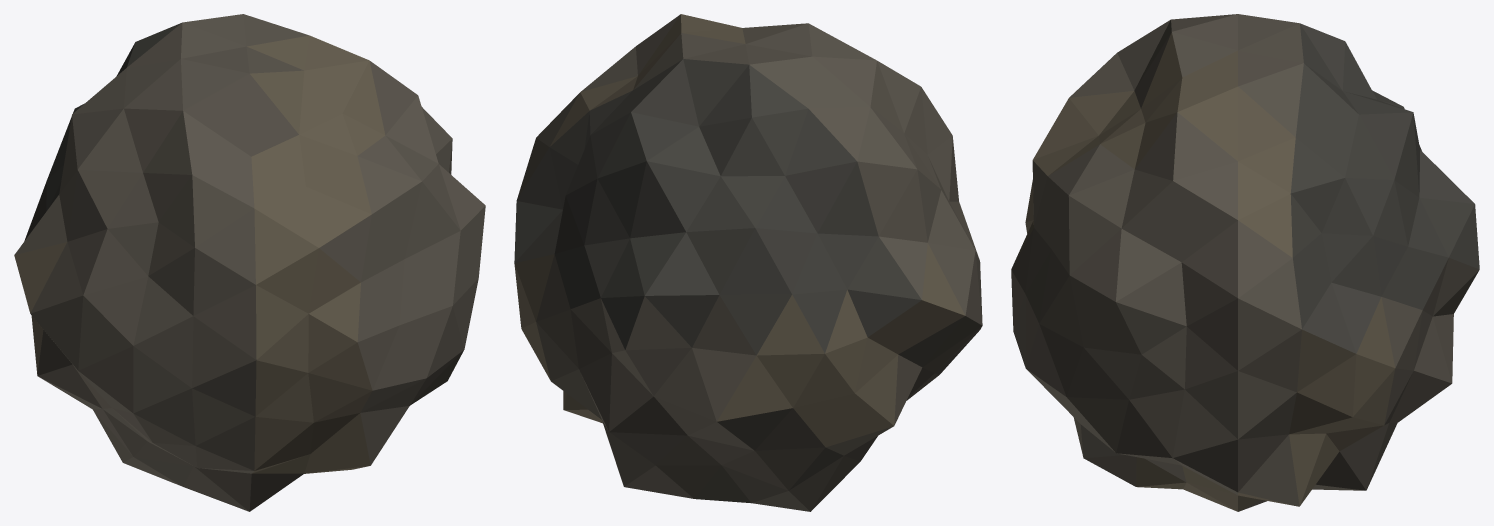
The model's file is obstaculo_asteroide.obj.
The picture shows the model from 3 angles, left to right: view 1: azimuth 30°, elevation 25°; view 2: azimuth 150°, elevation 25°; view 3: azimuth 270°, elevation 25°; orthographic projection. The views are drawn at different scales.
Parts seen in each view (by area): view 1: obstaculo_asteroide_Fragmento; view 2: obstaculo_asteroide_Fragmento; view 3: obstaculo_asteroide_Fragmento.
Boxes of the visible parts, x1,y1,x2,y2 form: obstaculo_asteroide_Fragmento: [14, 14, 485, 511]; obstaculo_asteroide_Fragmento: [514, 14, 982, 511]; obstaculo_asteroide_Fragmento: [1011, 14, 1479, 511].
Bounding box in the file's own units: 1.93 × 1.94 × 1.82.
